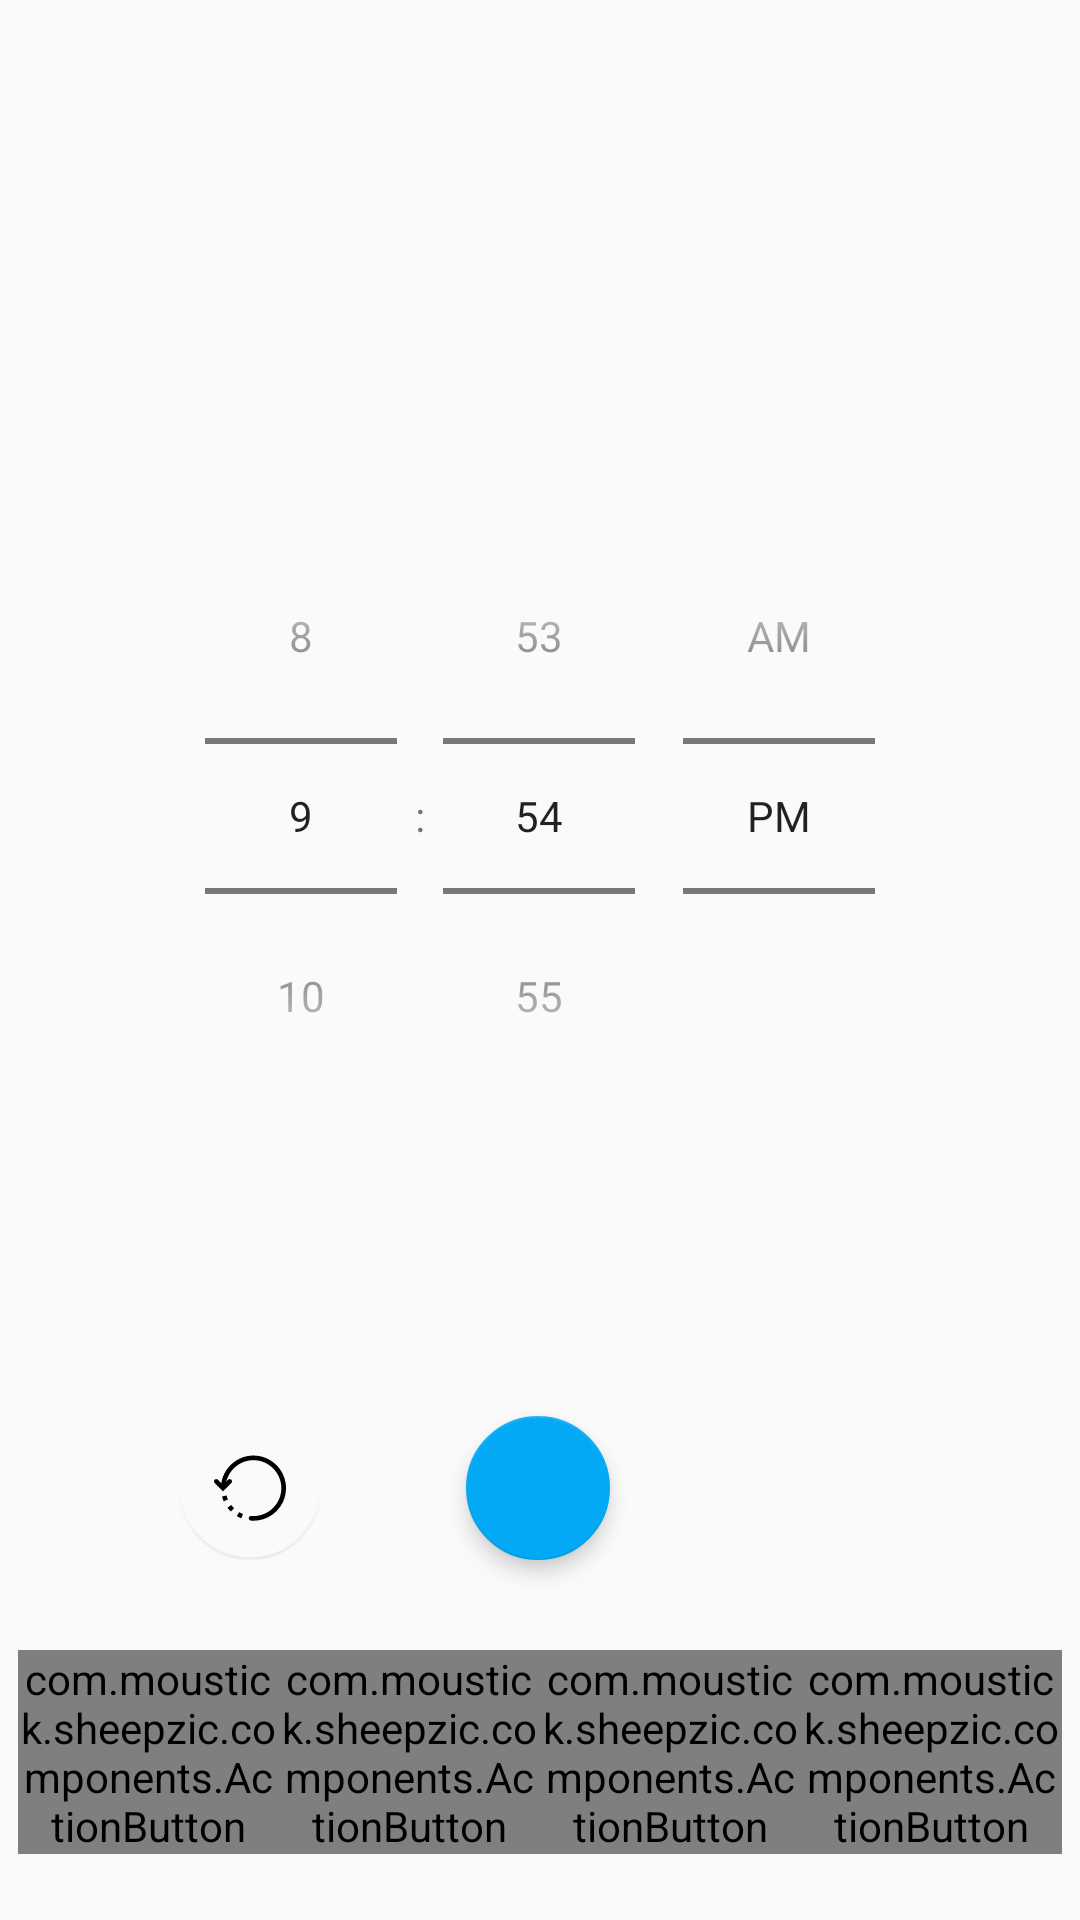

Icon click points for this 1080w x 1920h phone screenshot, format point (x, y):
restart: point (250, 1488)
